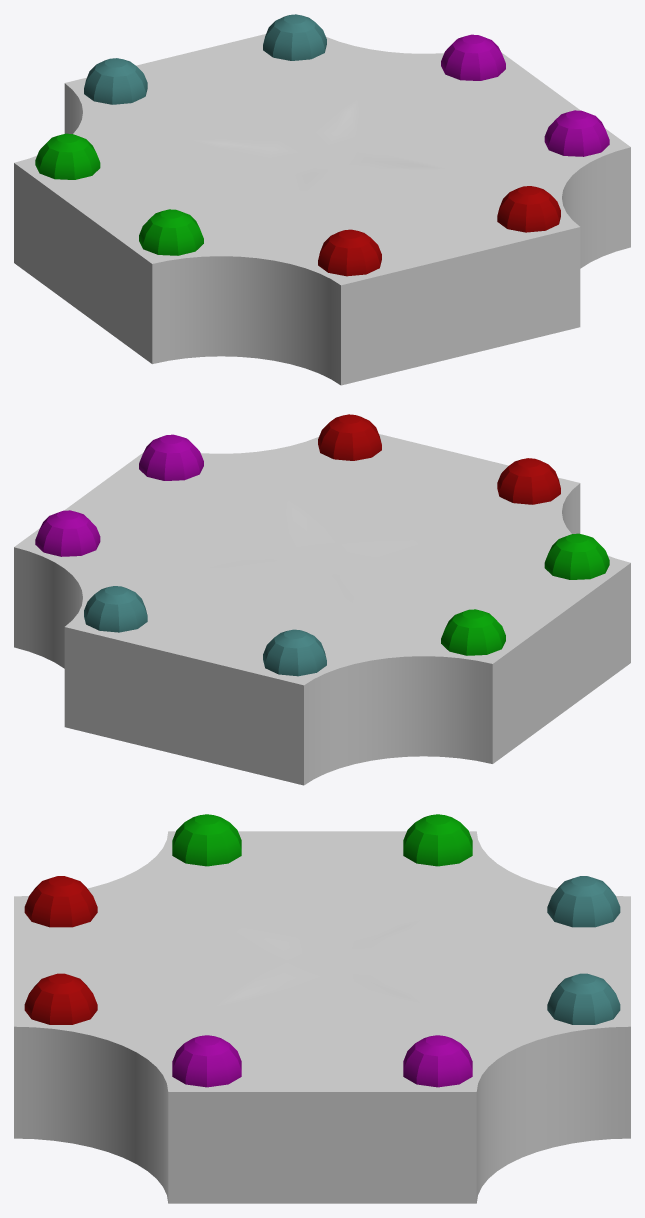
The model's file is tile_cross.glb.
3 views of the same model, one above another, from view 1: azimuth 30°, elevation 25°; view 2: azimuth 150°, elevation 25°; view 3: azimuth 270°, elevation 25° (orthographic). The views are drawn at different scales.
Parts seen in each view (by area): view 1: merge; view 2: merge; view 3: merge.
Boxes of the visible parts, box(x1,y1,x2,y2) form: merge: box(14, 14, 630, 385); merge: box(14, 414, 630, 785); merge: box(14, 814, 630, 1203).
Size of the model in its own units: 1 by 0.26 by 1.
